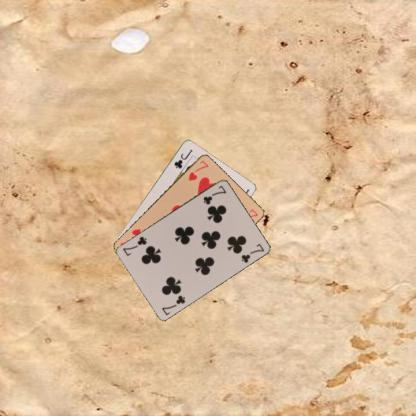7c: (200, 182, 228, 206), (160, 292, 186, 316)
7h: (186, 157, 209, 182)
Jc: (171, 147, 194, 170)
